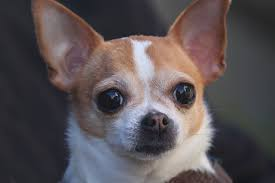chihuahua: (23, 1, 244, 182)
